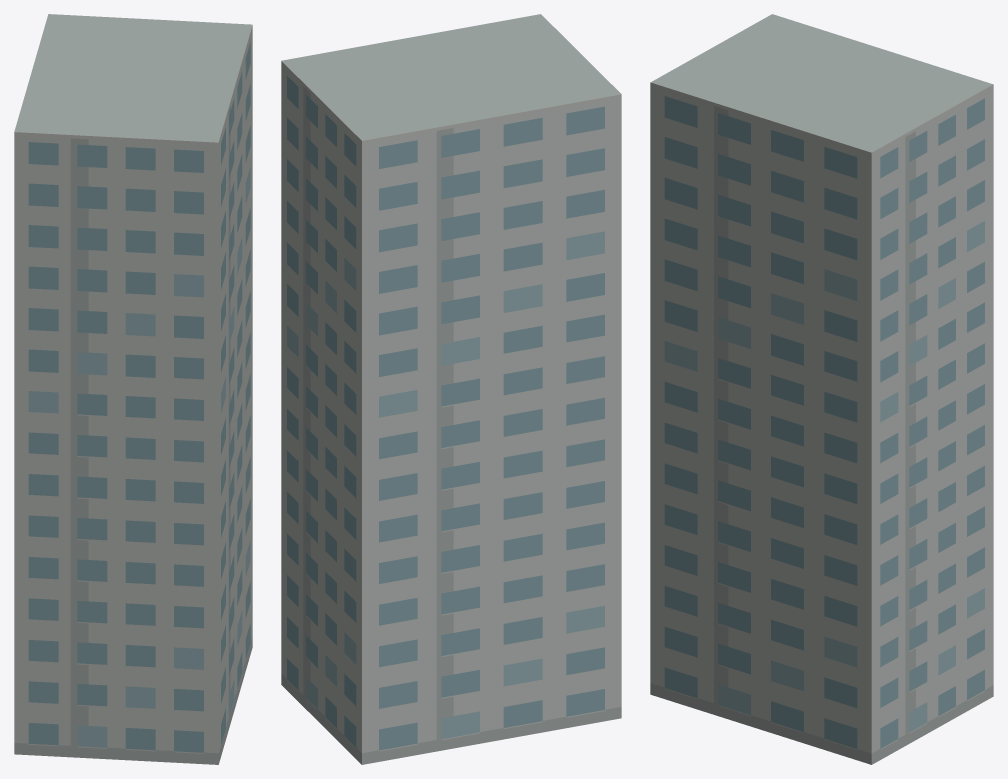
The model's file is residential-15621f78-978b-4816-90a8-7bfa8d10075e.glb.
The picture shows the model from 3 angles, left to right: view 1: azimuth 30°, elevation 25°; view 2: azimuth 150°, elevation 25°; view 3: azimuth 270°, elevation 25°; orthographic projection.
Parts seen in each view (by area): view 1: residential-15621f78-978b-4816-90a8-7bfa8d10075e.tmp; view 2: residential-15621f78-978b-4816-90a8-7bfa8d10075e.tmp; view 3: residential-15621f78-978b-4816-90a8-7bfa8d10075e.tmp.
Boxes of the visible parts, box(x1,y1,x2,y2) form: residential-15621f78-978b-4816-90a8-7bfa8d10075e.tmp: box(14, 14, 252, 764); residential-15621f78-978b-4816-90a8-7bfa8d10075e.tmp: box(281, 14, 621, 764); residential-15621f78-978b-4816-90a8-7bfa8d10075e.tmp: box(650, 14, 993, 764).
Size of the model in its own units: 21.88 by 45 by 22.86.
